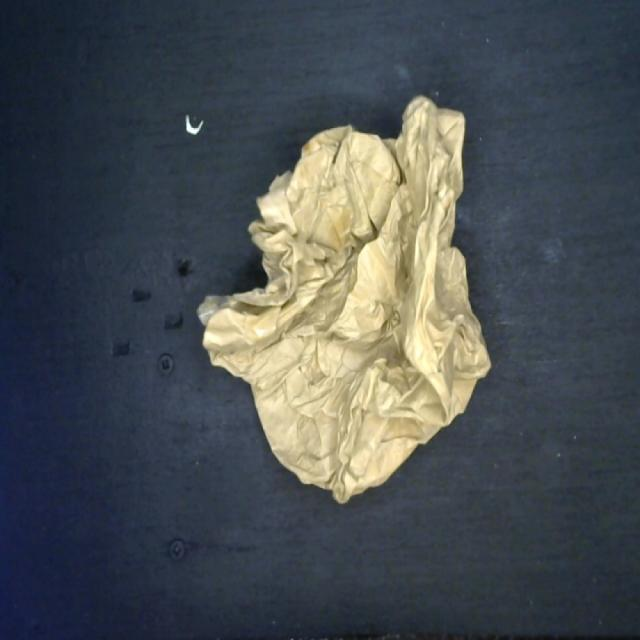biodegradable: (198, 92, 494, 512)
